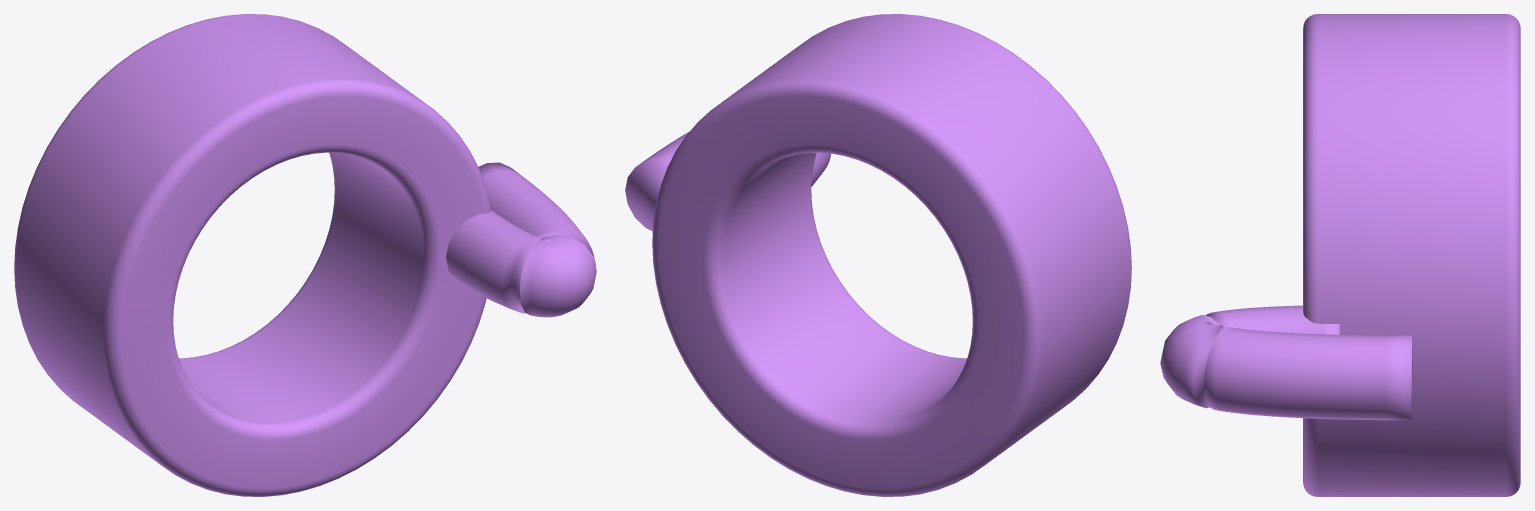
The model's file is clasp-ZHk-k3u0.glb.
3 renders of one model, left to right at view 1: azimuth 30°, elevation 25°; view 2: azimuth 150°, elevation 25°; view 3: azimuth 270°, elevation 25°, orthographic. The views are drawn at different scales.
Parts seen in each view (by area): view 1: R3D_Clasp; view 2: R3D_Clasp; view 3: R3D_Clasp.
Part boxes in pixels (left/top/right/bottom): R3D_Clasp: left=14, top=14, right=596, bottom=496; R3D_Clasp: left=625, top=14, right=1131, bottom=496; R3D_Clasp: left=1160, top=14, right=1520, bottom=496.
Bounding box in the file's own units: 0.475 × 0.4 × 0.2982.
